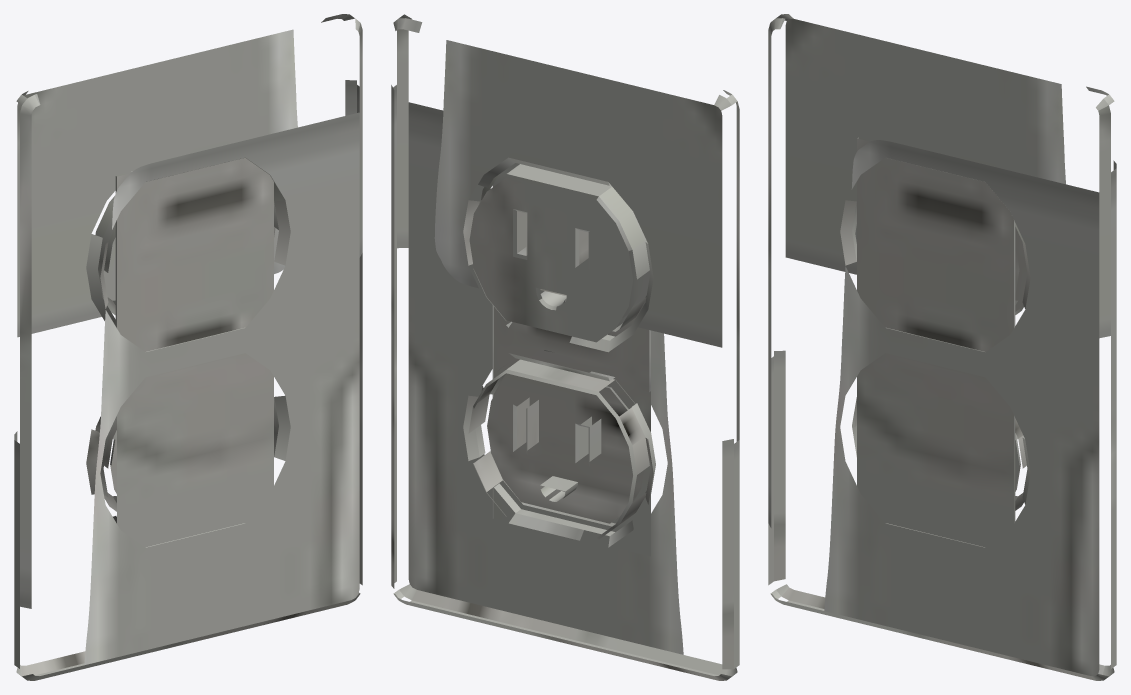
File: wall_outlet.obj
The picture shows the model from 3 angles, left to right: view 1: azimuth 30°, elevation 25°; view 2: azimuth 150°, elevation 25°; view 3: azimuth 330°, elevation 25°; orthographic projection.
Parts seen in each view (by area): view 1: plate, strap, face_0; view 2: plate, face_0, cavity_1, strap, face_1, cavity_0; view 3: plate, strap, face_0.
Part boxes in pixels (box(x1,y1,x2,y2)): plate: box(14, 14, 362, 680); strap: box(115, 158, 273, 547); face_0: box(95, 196, 115, 315); plate: box(391, 14, 739, 680); face_0: box(469, 164, 650, 342); cavity_1: box(487, 374, 644, 523); strap: box(492, 163, 650, 556); face_1: box(468, 359, 649, 539); cavity_0: box(511, 176, 644, 319); plate: box(768, 14, 1116, 680); strap: box(857, 137, 1015, 547); face_0: box(854, 216, 1027, 314).
Bounding box in the file's own units: 0.1049 × 0.1714 × 0.0113.
